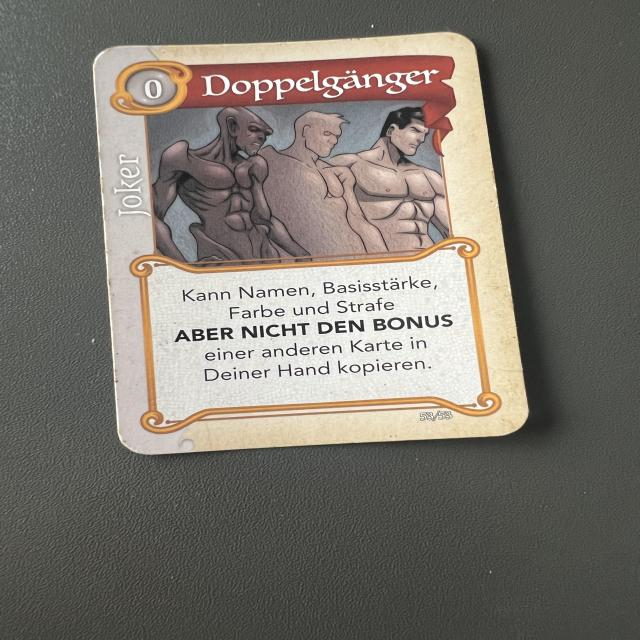Doppelganger: (92, 30, 535, 456)
